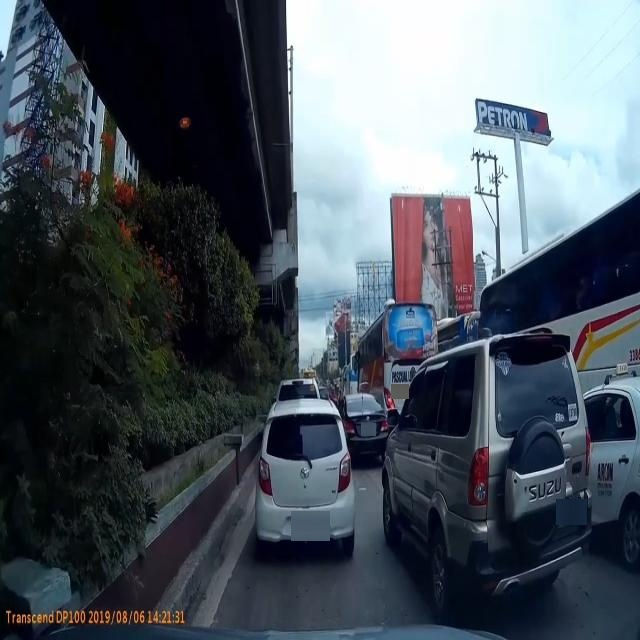bus: (482, 209, 640, 430), (355, 321, 447, 428)
car: (382, 333, 591, 620), (376, 364, 594, 610), (256, 404, 360, 574), (330, 389, 391, 466)
